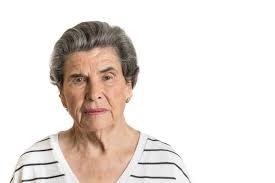s.white: (102, 84, 127, 111)
